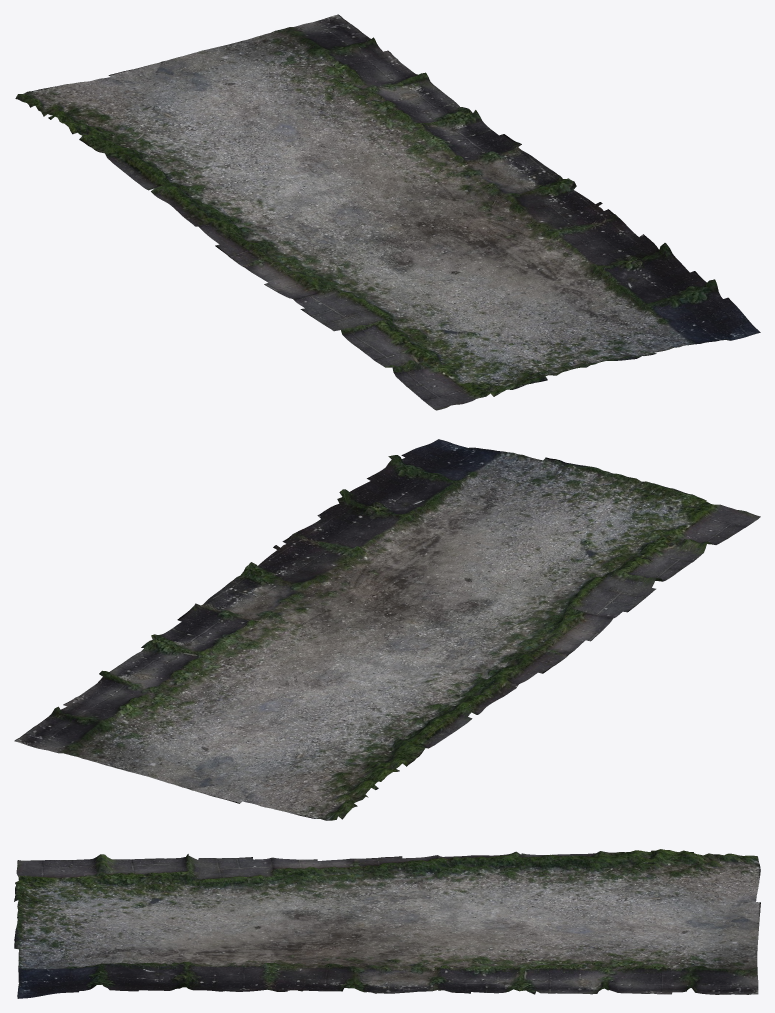
Rendered from yol.fbx.
3 renders of one model, top to bottom at view 1: azimuth 30°, elevation 25°; view 2: azimuth 150°, elevation 25°; view 3: azimuth 270°, elevation 25°, orthographic. The views are drawn at different scales.
Visible parts, largest first — view 1: Gravel Pathway 01; view 2: Gravel Pathway 01; view 3: Gravel Pathway 01.
Part boxes in pixels (left/top/right/bottom): Gravel Pathway 01: left=15, top=14, right=760, bottom=410; Gravel Pathway 01: left=14, top=439, right=760, bottom=820; Gravel Pathway 01: left=14, top=849, right=760, bottom=998.
Bounding box in the file's own units: 292 × 17.88 × 660.
1 material, 1 textured.
